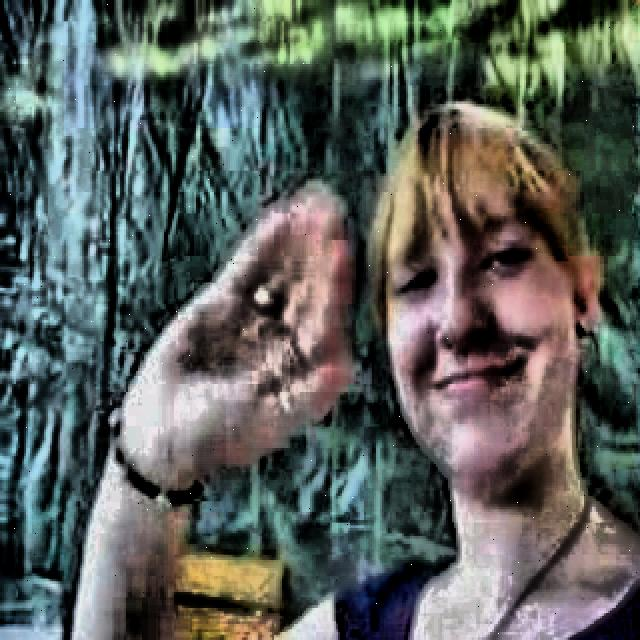T: (61, 110, 640, 637)
